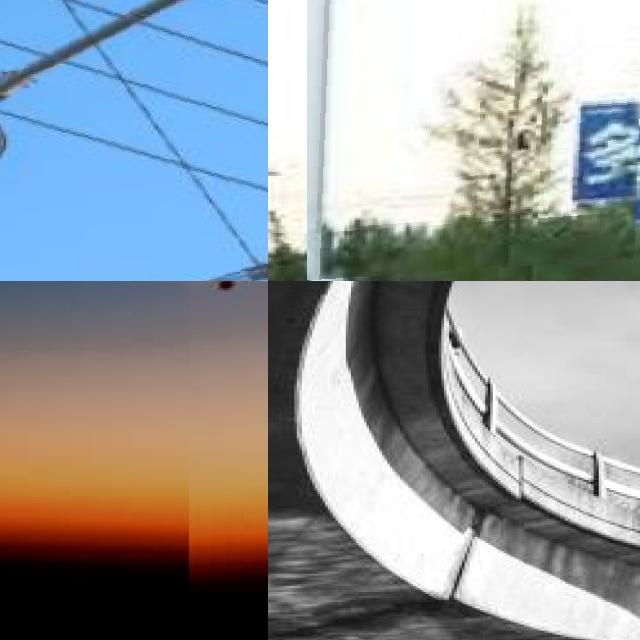street light: (307, 0, 640, 281), (0, 0, 268, 281), (189, 281, 268, 592)
